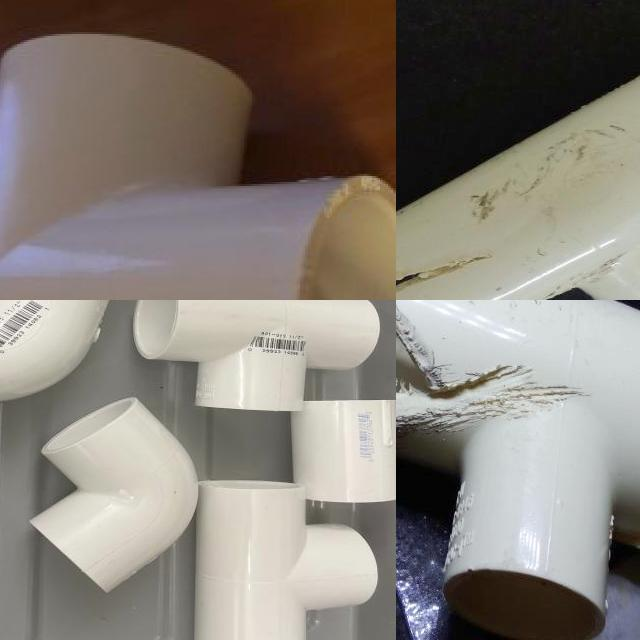Defective: (396, 300, 516, 429), (396, 389, 573, 429), (396, 259, 491, 300)
L Joint: (29, 399, 196, 595)
T Joint: (0, 34, 396, 300), (396, 77, 640, 300), (197, 483, 375, 640), (133, 300, 380, 413)
